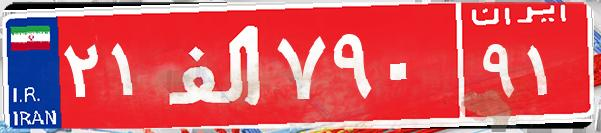0: (385, 28, 445, 110)
1: (110, 28, 158, 105), (525, 38, 570, 115)
2: (57, 26, 110, 107)
7: (273, 28, 330, 110)
9: (330, 28, 385, 110), (475, 38, 525, 113)
الف: (158, 15, 273, 115)
